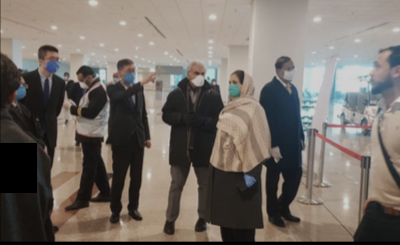with_mask: (44, 53, 60, 73), (13, 80, 27, 102), (190, 69, 206, 87), (122, 65, 137, 83), (281, 63, 295, 81), (228, 78, 241, 96), (76, 76, 90, 89)
without_mask: (368, 57, 390, 93)
